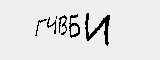Б: (65, 12, 81, 39)
В: (55, 14, 69, 37)
Г: (33, 17, 46, 39)
И: (83, 13, 112, 48)
Ч: (44, 15, 59, 35)
